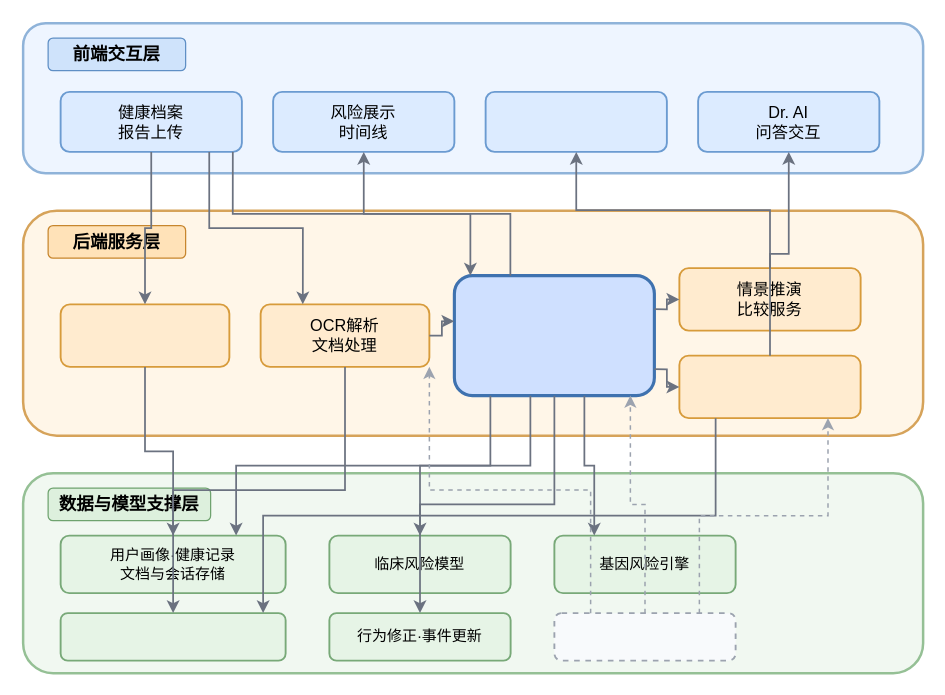
The diagram is 945 pixels wide and 695 high, and some of its shapes have lost their labels. Each missing label, with the centre of its shape:
"OCR摘要·知识检索支撑" goes at [172,636].
"受控Agent问答 证据与治理" goes at [769,386].
"可选缓存·运行支撑" goes at [644,636].
"情景推演 方案比较" goes at [575,121].
"用户认证 权限控制" goes at [144,335].
"综合风险分析 中枢" goes at [553,335].
